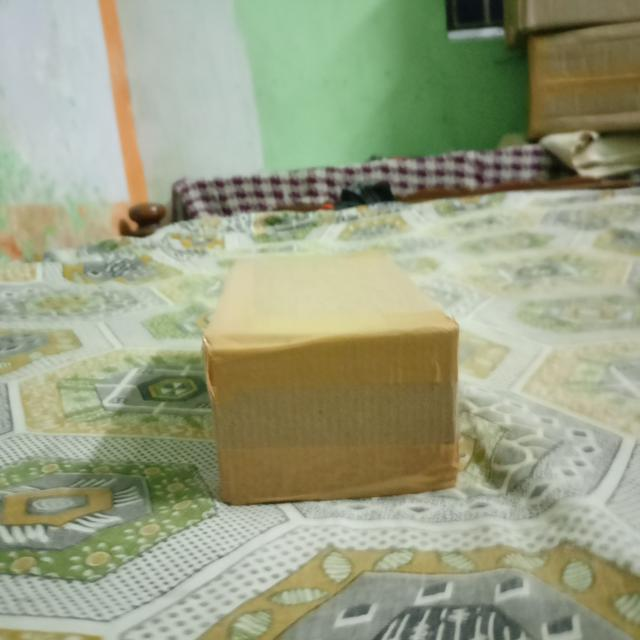box: (212, 330, 461, 504)
